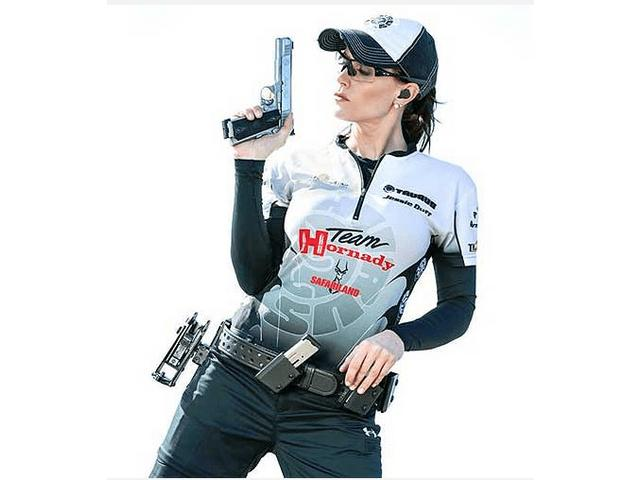pistol: (220, 36, 299, 149)
